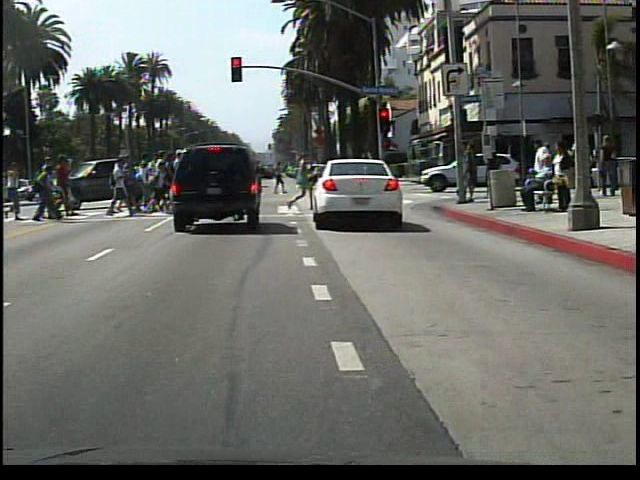person: (522, 154, 563, 215), (548, 138, 577, 213), (287, 148, 318, 214)
